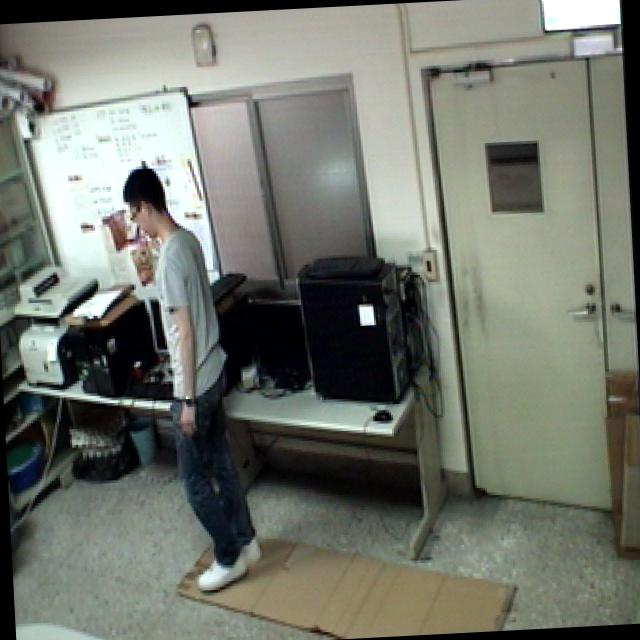stand: (121, 153, 272, 604)
